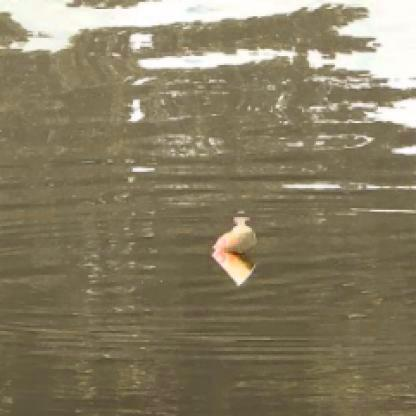Metal: (210, 243, 258, 290)
